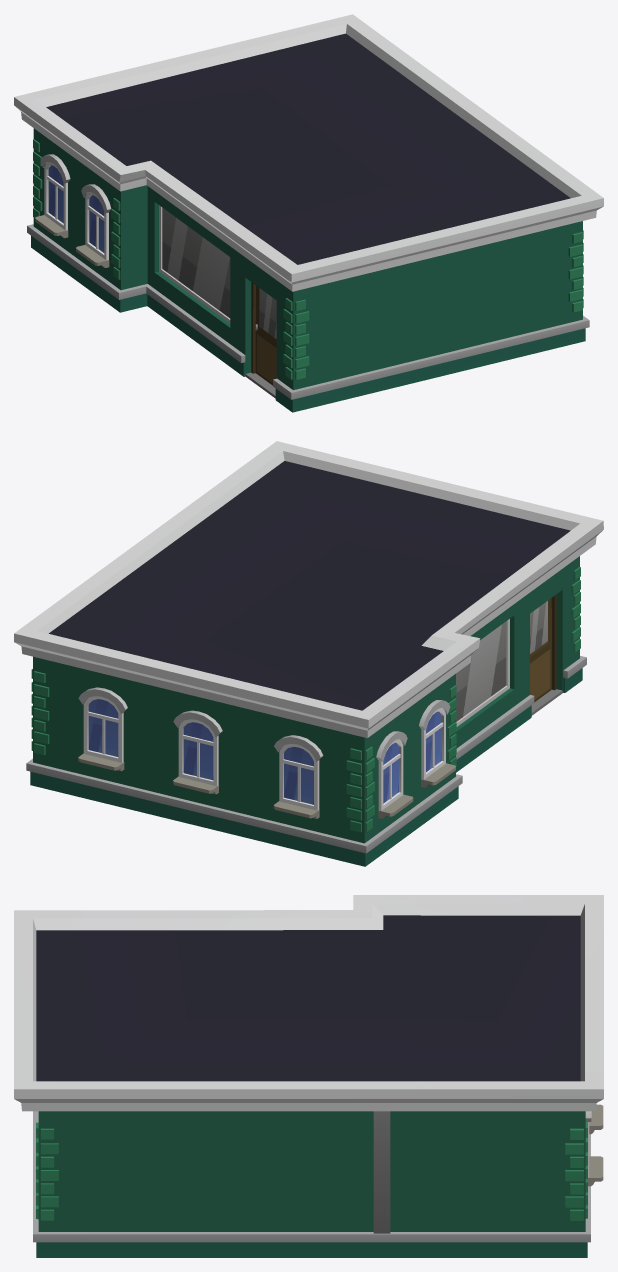
The model's file is Building_1_1_E.fbx.
3 views of the same model, one above another, from view 1: azimuth 30°, elevation 25°; view 2: azimuth 150°, elevation 25°; view 3: azimuth 270°, elevation 25° (orthographic). The views are drawn at different scales.
Parts seen in each view (by area): view 1: Building_1_1_E; view 2: Building_1_1_E; view 3: Building_1_1_E.
Boxes of the visible parts, <box> form: Building_1_1_E: <box>14,14,603,412</box>; Building_1_1_E: <box>14,441,603,866</box>; Building_1_1_E: <box>14,895,603,1257</box>.
Bounding box in the file's own units: 822 × 341 × 1051.
